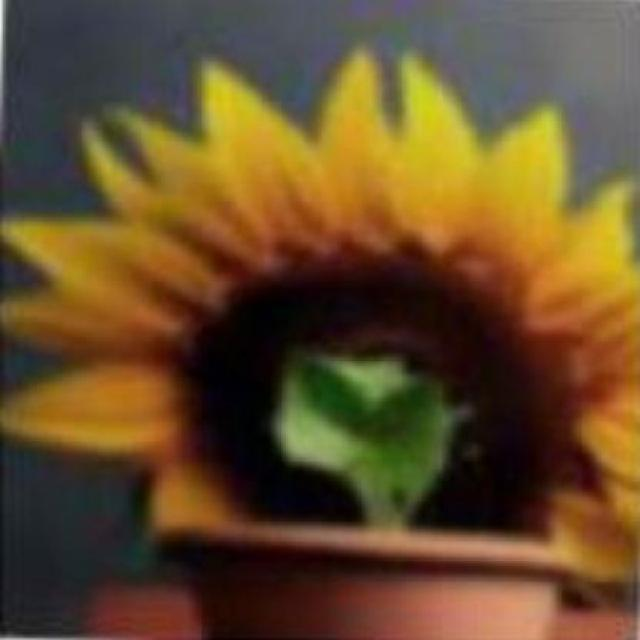sunflower: (4, 67, 640, 575)
